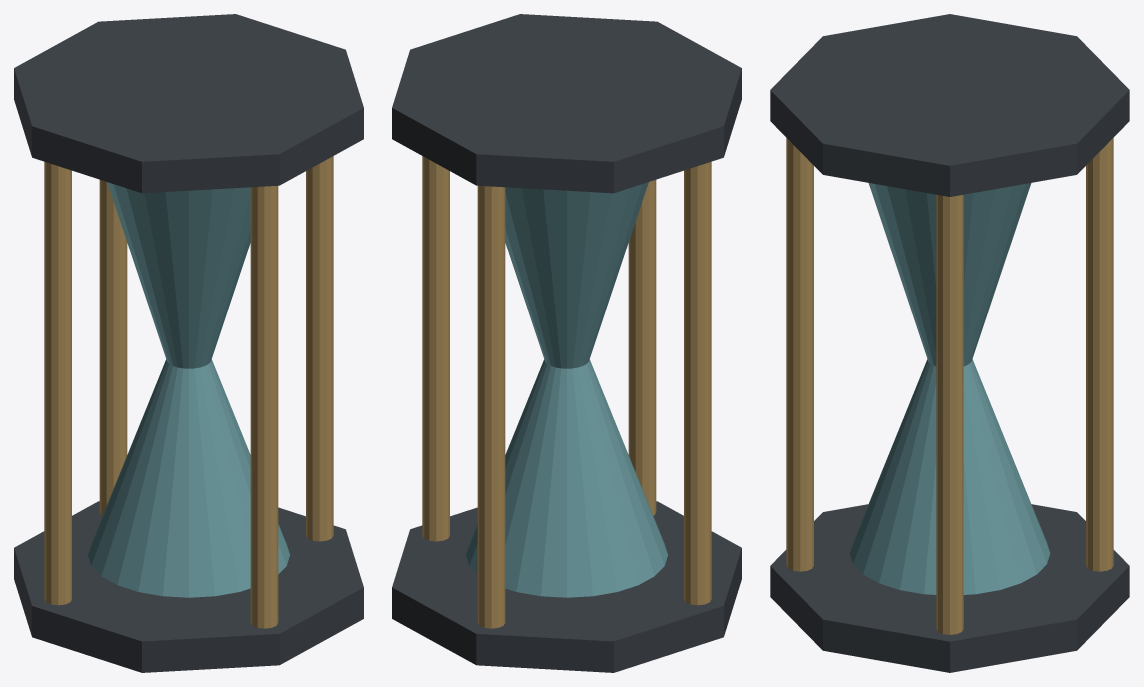
3 renders of one model, left to right at view 1: azimuth 30°, elevation 25°; view 2: azimuth 150°, elevation 25°; view 3: azimuth 270°, elevation 25°, orthographic.
Visible parts, largest first — view 1: TV-292 Market Sandclock; view 2: TV-292 Market Sandclock; view 3: TV-292 Market Sandclock.
Part boxes in pixels (left/top/right/bottom): TV-292 Market Sandclock: left=14, top=14, right=363, bottom=672; TV-292 Market Sandclock: left=392, top=14, right=741, bottom=672; TV-292 Market Sandclock: left=770, top=14, right=1129, bottom=672.
Bounding box in the file's own units: 0.2088 × 0.325 × 0.2088.
